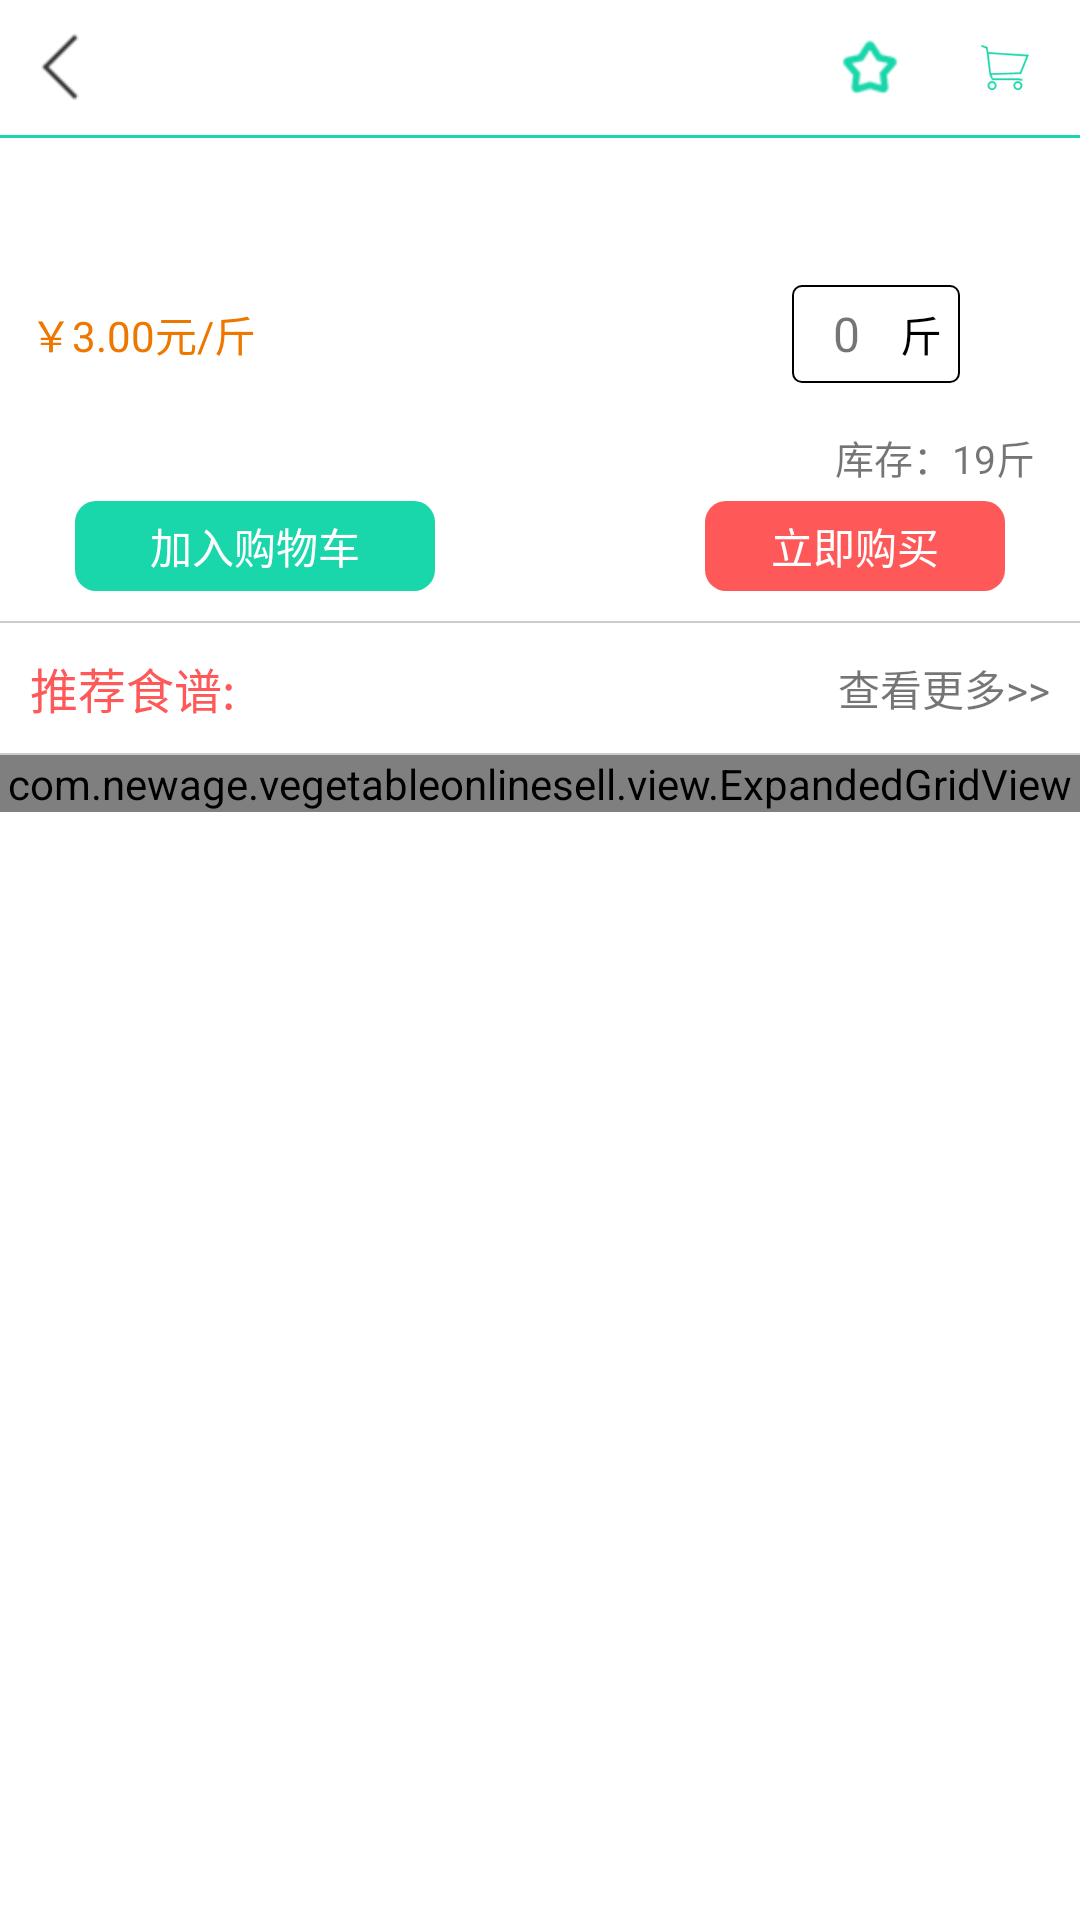

Screen size 1080*1920. Icon name, then its center in pixels as (x=x, y=y):
back: (x=60, y=67)
collect: (x=870, y=67)
shoppingcart: (x=1005, y=67)
